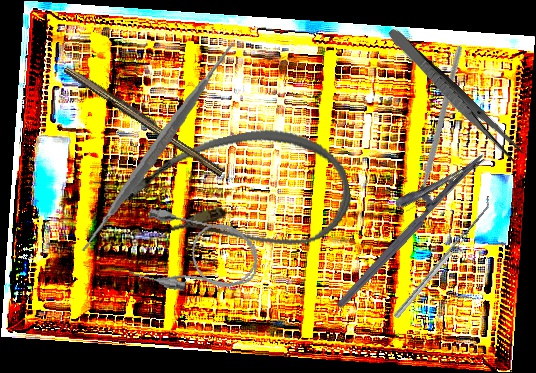Cannula: (118, 113, 359, 279), (127, 205, 265, 305)
Chopper: (364, 45, 503, 212)
Dressing Forceps: (383, 25, 526, 165)
Needle Holder: (315, 133, 488, 310)
Scalpel Handle: (61, 62, 228, 178)
Spatula Surgical: (52, 41, 263, 253), (389, 195, 496, 319)
